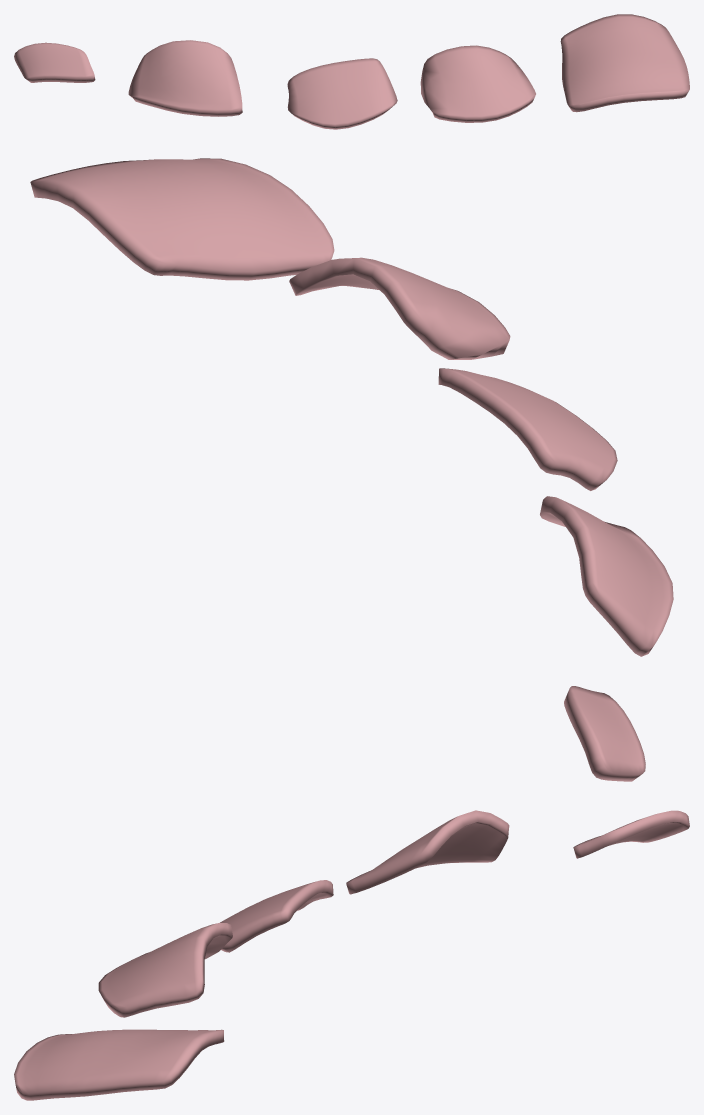
3 renders of one model, top to bottom at view 1: azimuth 30°, elevation 25°; view 2: azimuth 150°, elevation 25°; view 3: azimuth 270°, elevation 25°, orthographic. The views are drawn at different scales.
Parts seen in each view (by area): view 1: ZA_f25e80bda1d30f60; view 2: ZA_f25e80bda1d30f60; view 3: ZA_f25e80bda1d30f60.
Boxes of the visible parts, x1,y1,x2,y2 form: ZA_f25e80bda1d30f60: (14, 14, 689, 129); ZA_f25e80bda1d30f60: (30, 158, 673, 781); ZA_f25e80bda1d30f60: (14, 810, 689, 1100).
Bounding box in the file's own units: 0.0678 × 0.0107 × 0.0582.
